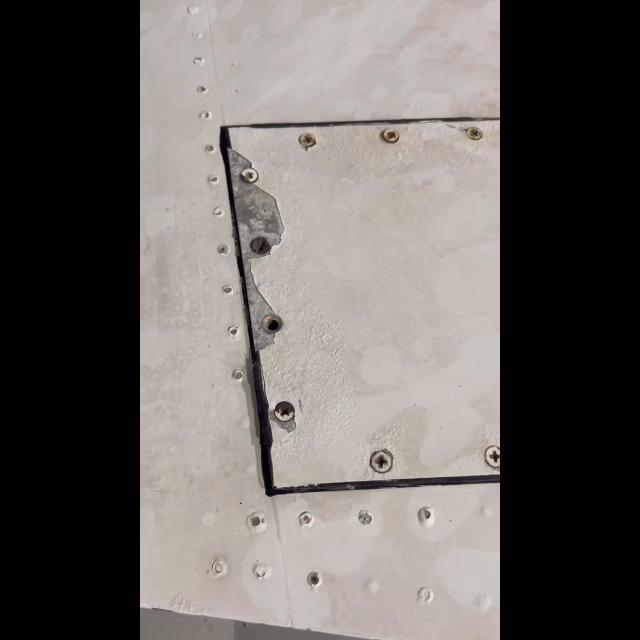Missing Fastener: (260, 312, 286, 336)
